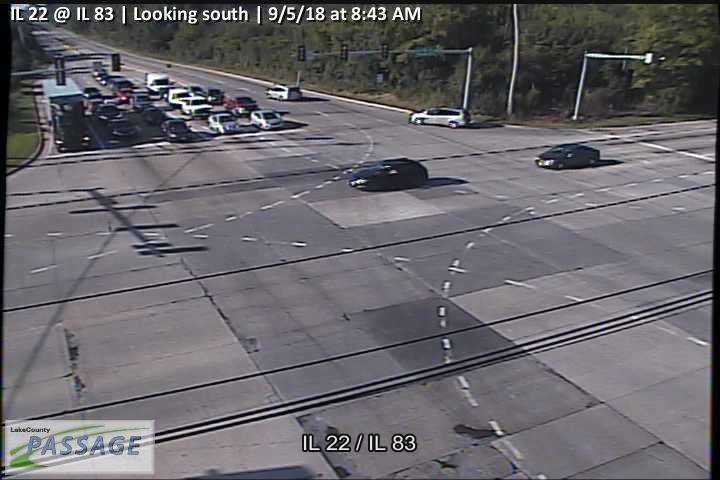SUV: (262, 83, 303, 102), (180, 95, 213, 118), (167, 87, 193, 106)
Sedan: (350, 157, 429, 191), (532, 143, 601, 169), (408, 105, 471, 128), (106, 118, 140, 143), (159, 117, 194, 141), (222, 92, 258, 115), (208, 112, 241, 135), (249, 108, 283, 130), (93, 103, 124, 124), (184, 83, 207, 99), (206, 86, 224, 103)
